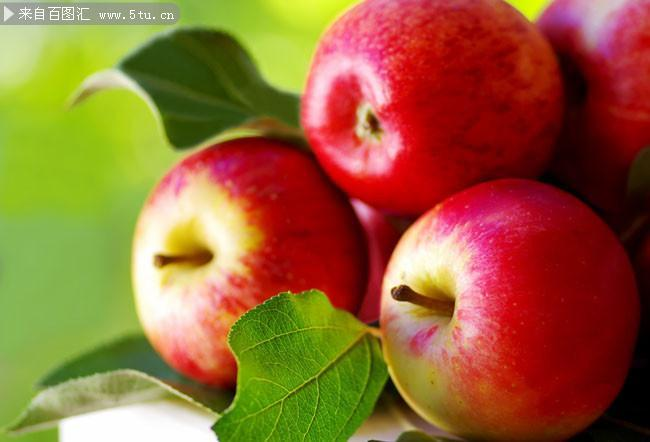apple: (380, 186, 649, 436), (128, 139, 375, 396), (302, 1, 563, 220)
